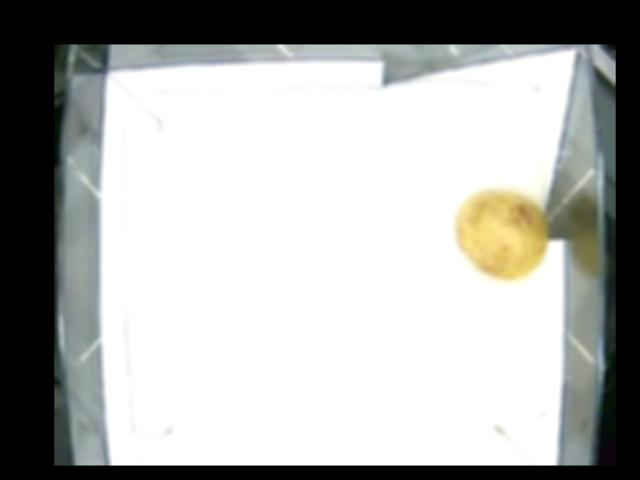Potato: (453, 191, 548, 277)
